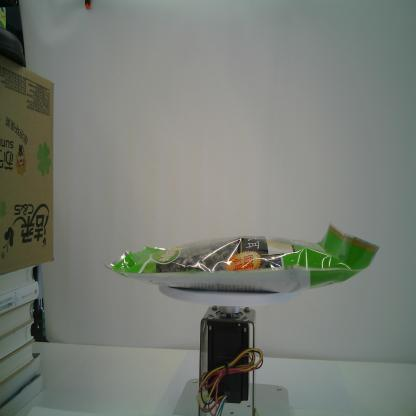Dried Food: (102, 221, 380, 294)
